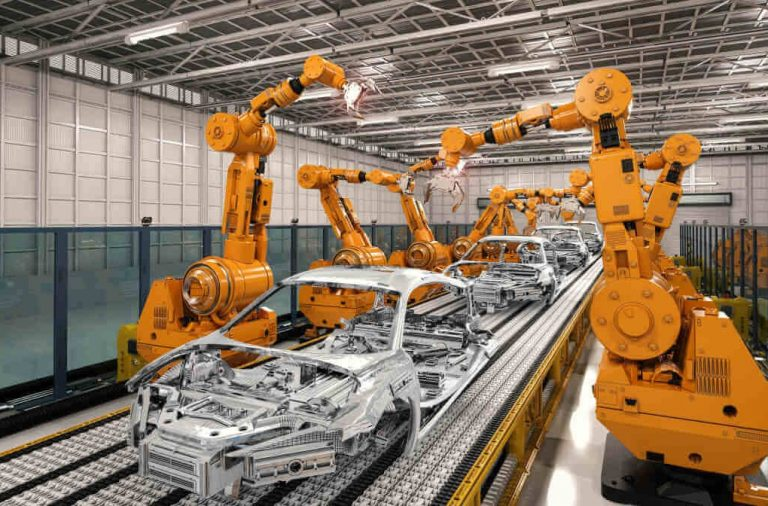robot: (422, 68, 751, 479), (137, 54, 382, 384), (555, 136, 703, 298), (298, 164, 420, 327), (451, 185, 544, 261)
